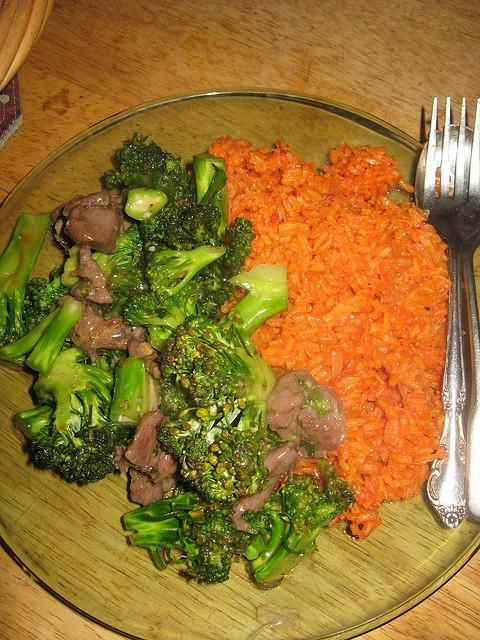broccoli: (158, 310, 298, 505), (29, 344, 134, 486), (124, 483, 252, 584), (244, 475, 340, 590), (104, 130, 196, 220), (0, 212, 53, 348), (0, 298, 82, 378), (218, 262, 288, 348), (145, 245, 227, 303), (124, 293, 186, 353), (23, 264, 72, 332), (193, 152, 228, 244), (139, 198, 198, 252), (91, 220, 146, 276), (110, 358, 147, 426), (217, 218, 256, 278), (108, 266, 150, 296), (197, 284, 230, 318), (61, 243, 81, 290)
